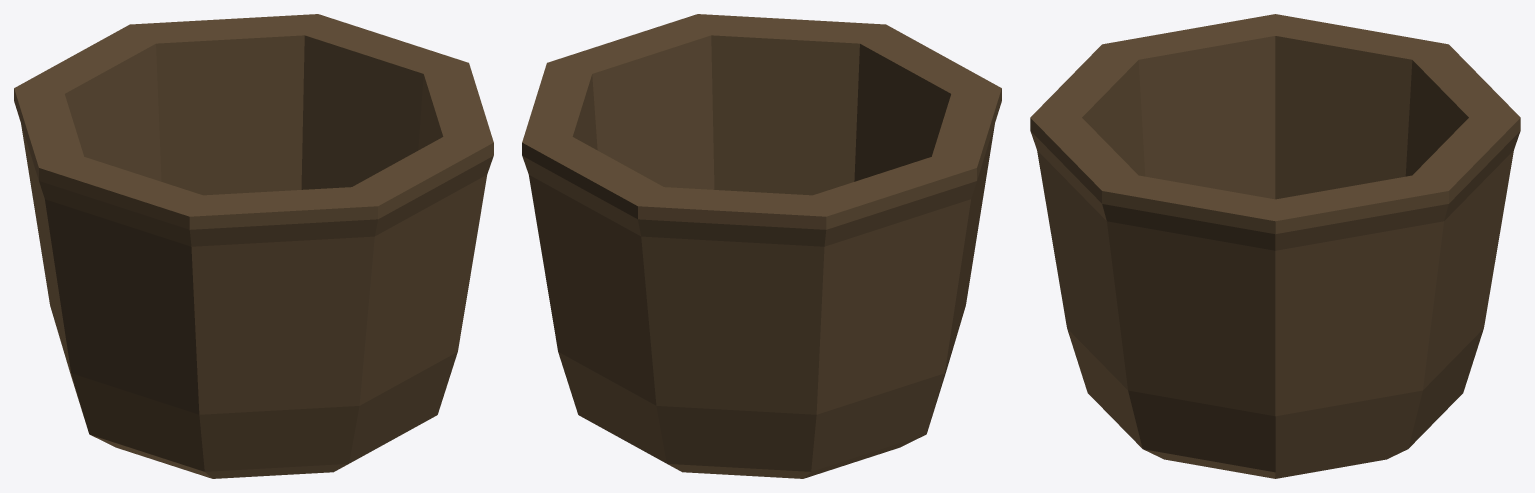
Rendered from Asian_Prop_Cup_Mug_Tea_Sake_Empty_01.FBX.
3 renders of one model, left to right at view 1: azimuth 30°, elevation 25°; view 2: azimuth 150°, elevation 25°; view 3: azimuth 270°, elevation 25°, orthographic.
Parts seen in each view (by area): view 1: Asian_Prop_Cup_Mug_Tea_Sake_Empty_01; view 2: Asian_Prop_Cup_Mug_Tea_Sake_Empty_01; view 3: Asian_Prop_Cup_Mug_Tea_Sake_Empty_01.
Boxes of the visible parts, <box> form: Asian_Prop_Cup_Mug_Tea_Sake_Empty_01: <box>14,14,493,478</box>; Asian_Prop_Cup_Mug_Tea_Sake_Empty_01: <box>522,14,1001,478</box>; Asian_Prop_Cup_Mug_Tea_Sake_Empty_01: <box>1030,14,1520,478</box>.
Bounding box in the file's own units: 90.36 × 59.93 × 90.36.
